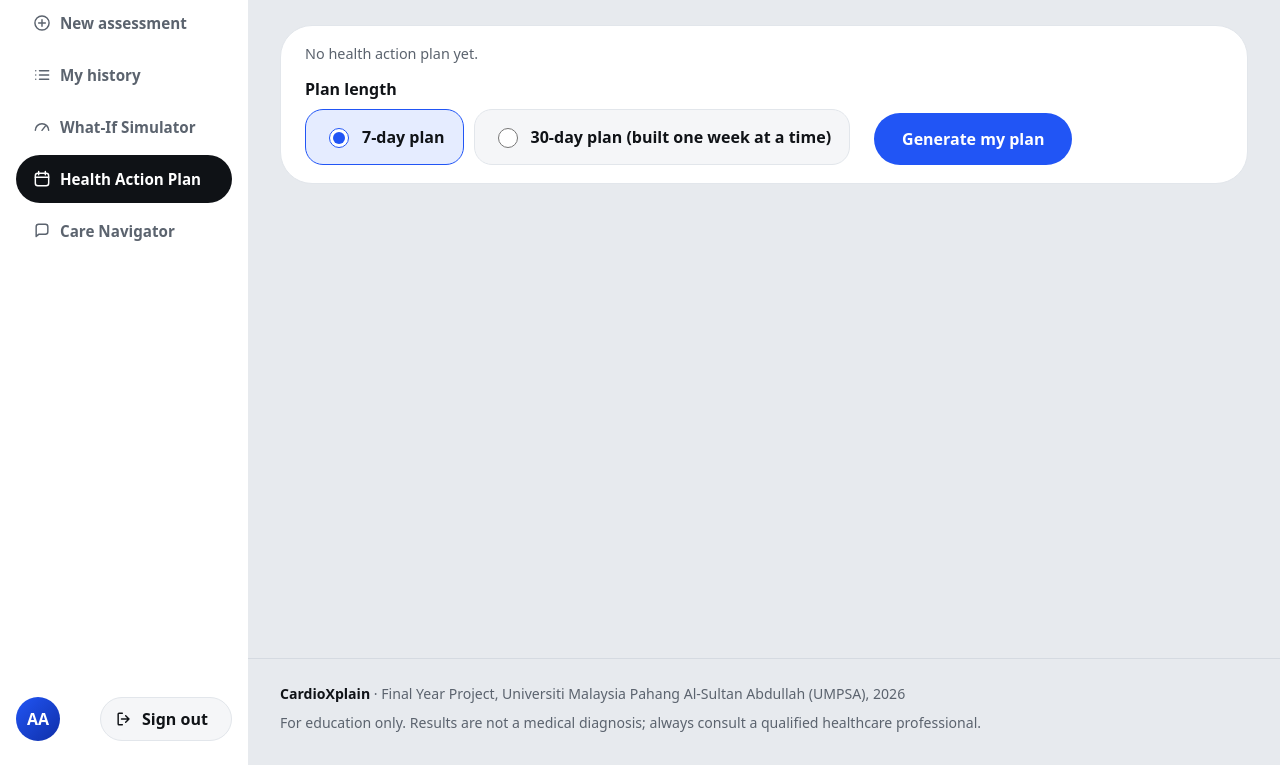
Scenario: generate a 30-day plan, then the next week
This screenshot has width=1280, height=765.
Click the radio button labelled "30-day plan (built one week at a time)" at (508, 138), box [498,128,518,148]
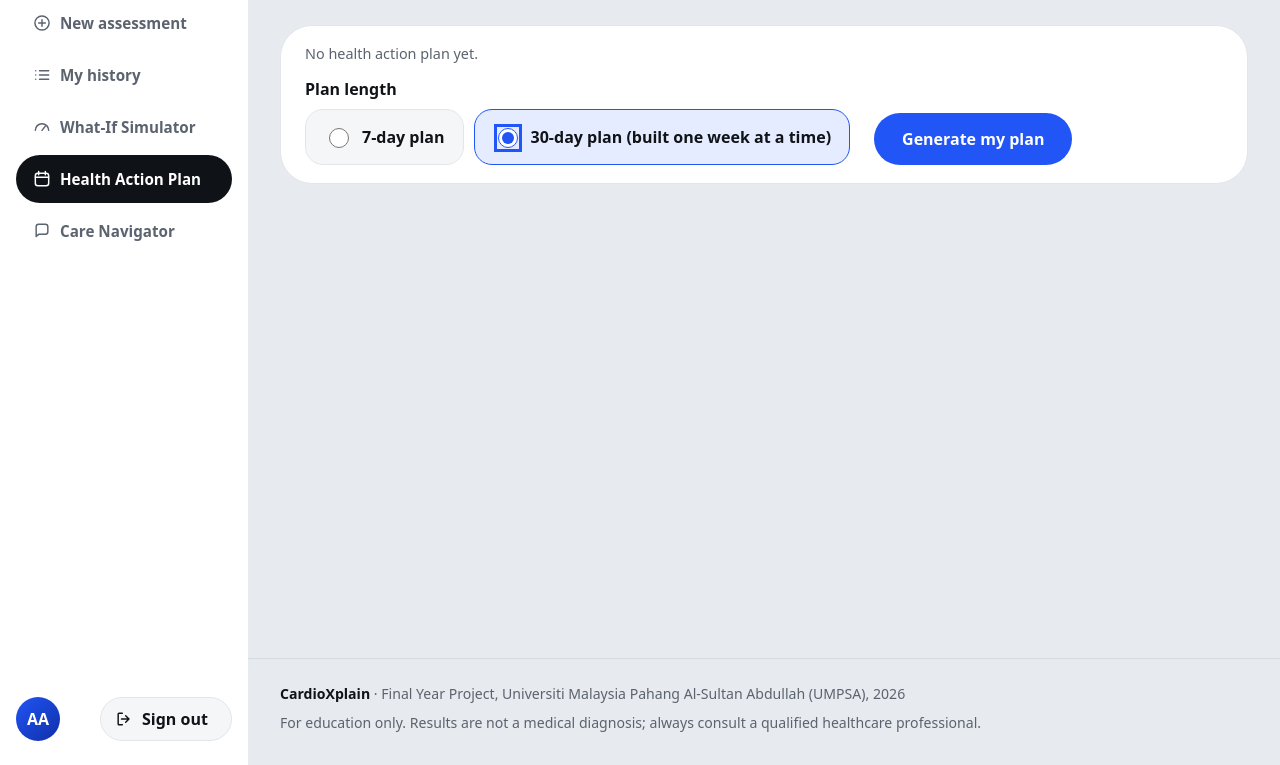
Click the button "Generate my plan" at (973, 139), box [874,113,1072,165]
(page scrolled)
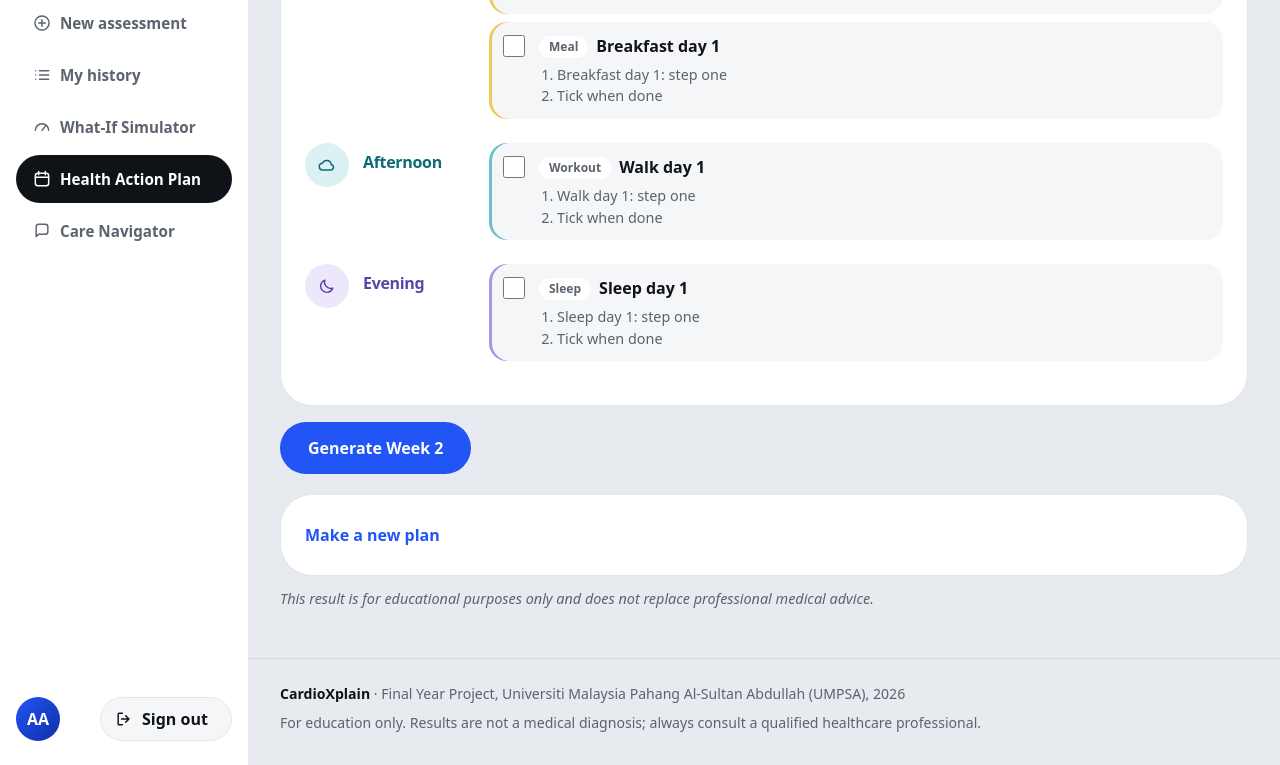
Click the button "Generate Week 2" at (376, 448), box [280,422,472,474]
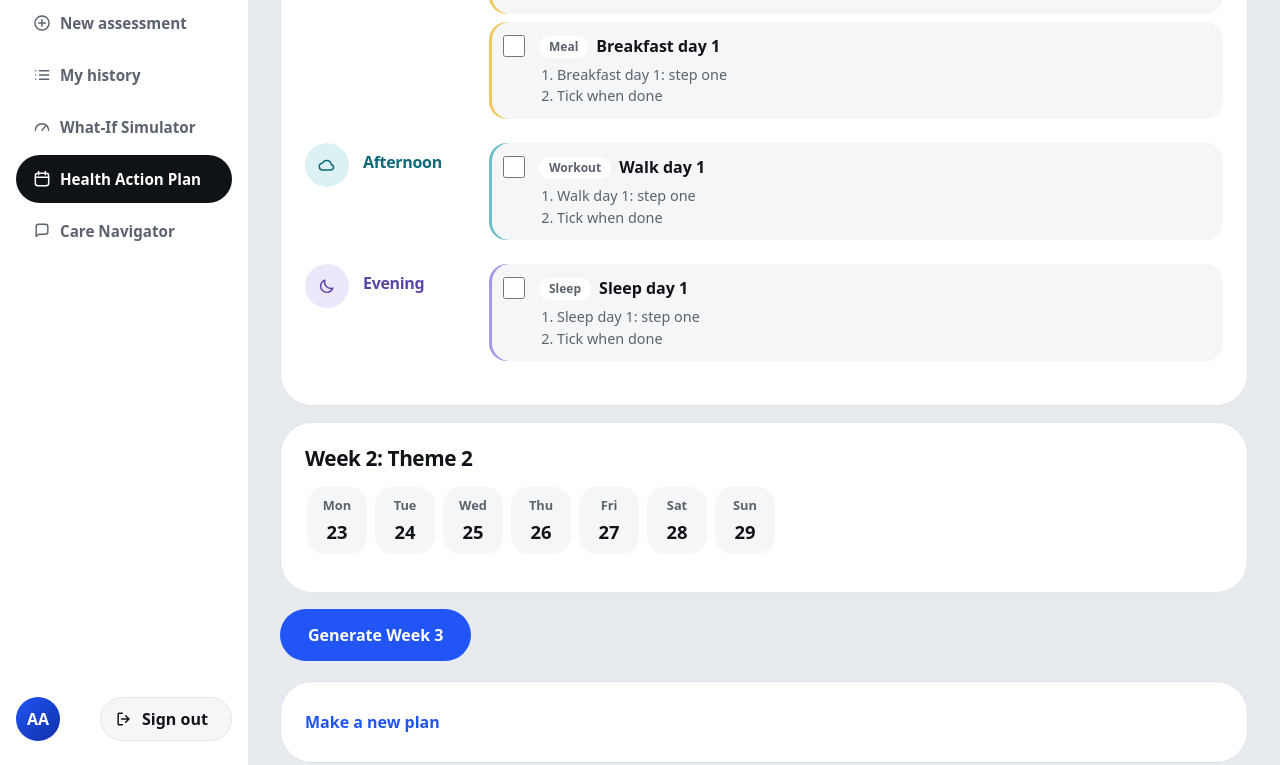
Now the heading "Week 2: Theme 2" is shown, box [305,444,473,472]
Click the button "Mon 23" at (337, 521), box [307,487,367,554]
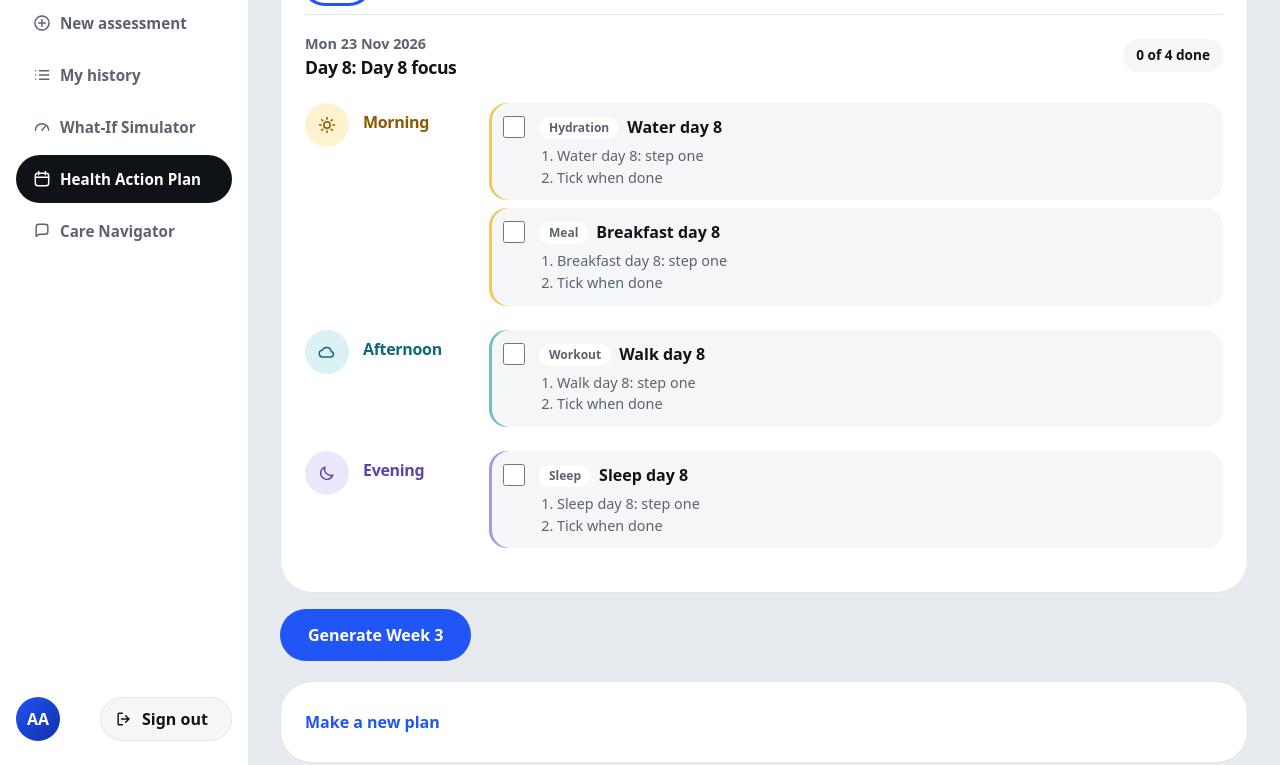
Now the element named "Mon 23 Nov 2026, Day 8: Day 8 focus" is shown, box [305,14,1223,568]
